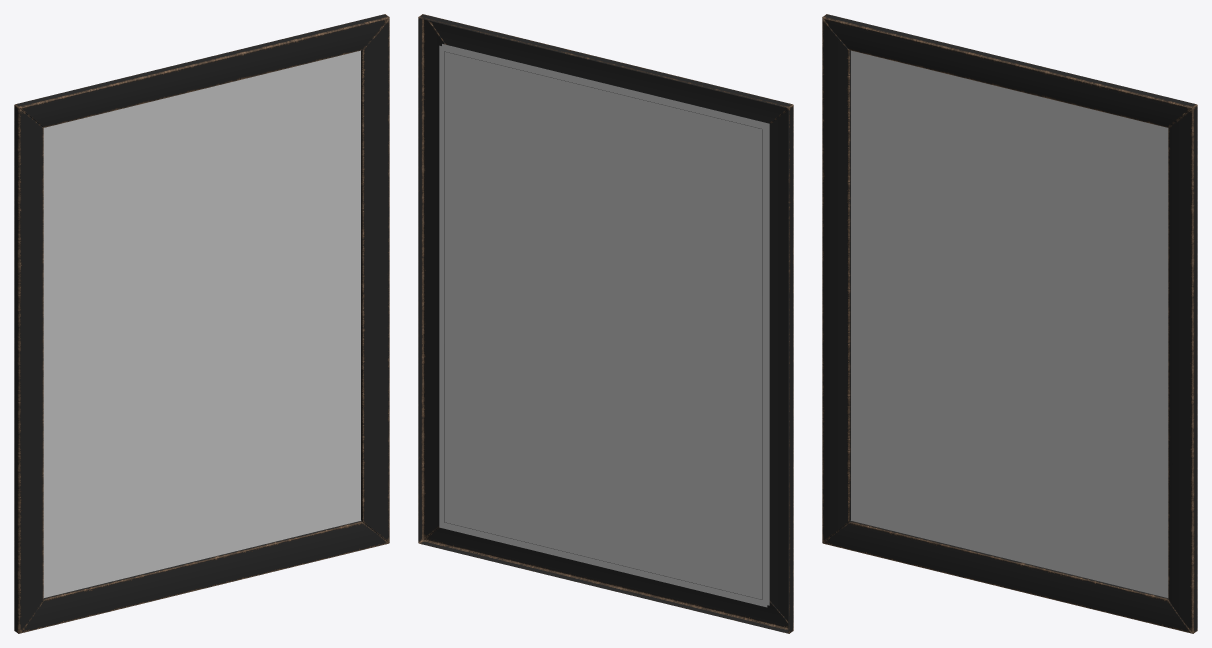
Rendered from Picture.FBX.
The picture shows the model from 3 angles, left to right: view 1: azimuth 30°, elevation 25°; view 2: azimuth 150°, elevation 25°; view 3: azimuth 330°, elevation 25°; orthographic projection.
Parts seen in each view (by area): view 1: Glass, Picture; view 2: Cat, Picture, Glass; view 3: Glass, Picture.
Boxes of the visible parts, box(x1,y1,x2,y2) form: Glass: box(43, 50, 361, 597); Picture: box(14, 14, 389, 633); Cat: box(439, 45, 767, 607); Picture: box(418, 14, 793, 633); Glass: box(442, 44, 769, 605); Glass: box(850, 50, 1168, 597); Picture: box(822, 14, 1197, 633).
Bounding box in the file's own units: 40.06 × 54.29 × 0.9814.
